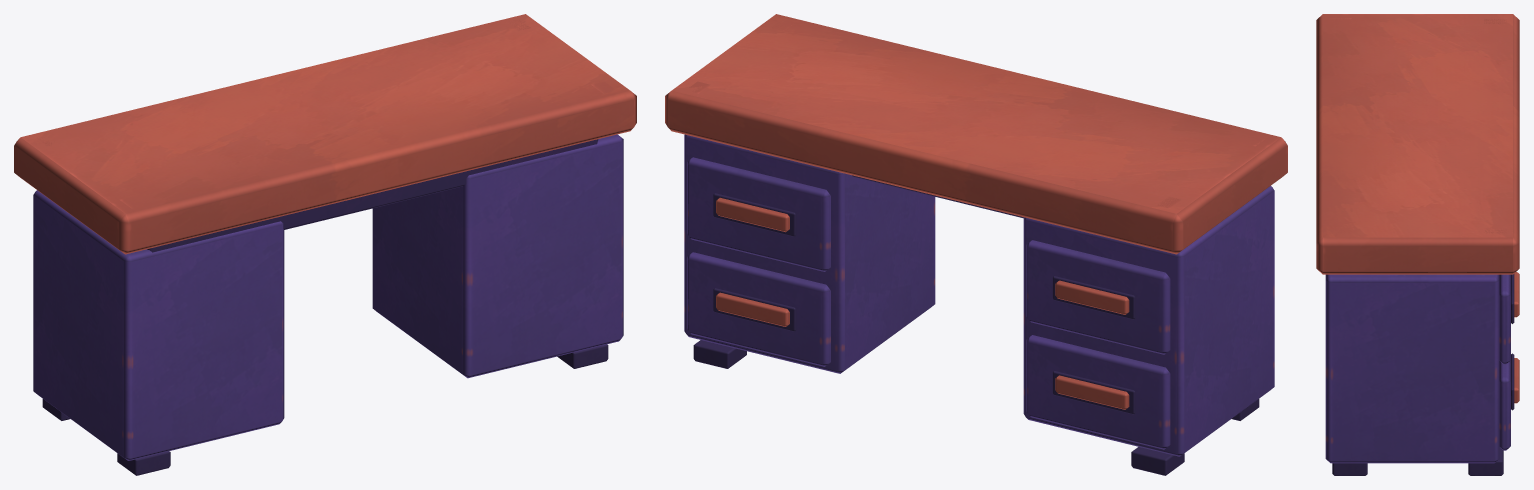
File: bg_codex_workbench_a01.glb
The picture shows the model from 3 angles, left to right: view 1: azimuth 30°, elevation 25°; view 2: azimuth 150°, elevation 25°; view 3: azimuth 270°, elevation 25°; orthographic projection. The views are drawn at different scales.
Parts seen in each view (by area): view 1: frame, countertop; view 2: countertop, frame, drawers; view 3: countertop, frame, drawers.
Part boxes in pixels (left/top/right/bottom): frame: left=33, top=134, right=623, bottom=475; countertop: left=14, top=14, right=636, bottom=254; countertop: left=665, top=14, right=1287, bottom=254; frame: left=684, top=134, right=1274, bottom=475; drawers: left=687, top=157, right=1170, bottom=449; countertop: left=1316, top=14, right=1519, bottom=274; frame: left=1325, top=274, right=1503, bottom=475; drawers: left=1499, top=272, right=1519, bottom=450.
Bounding box in the file's own units: 2 × 1 × 0.75.
Materials: 1 (1 with a texture image).
